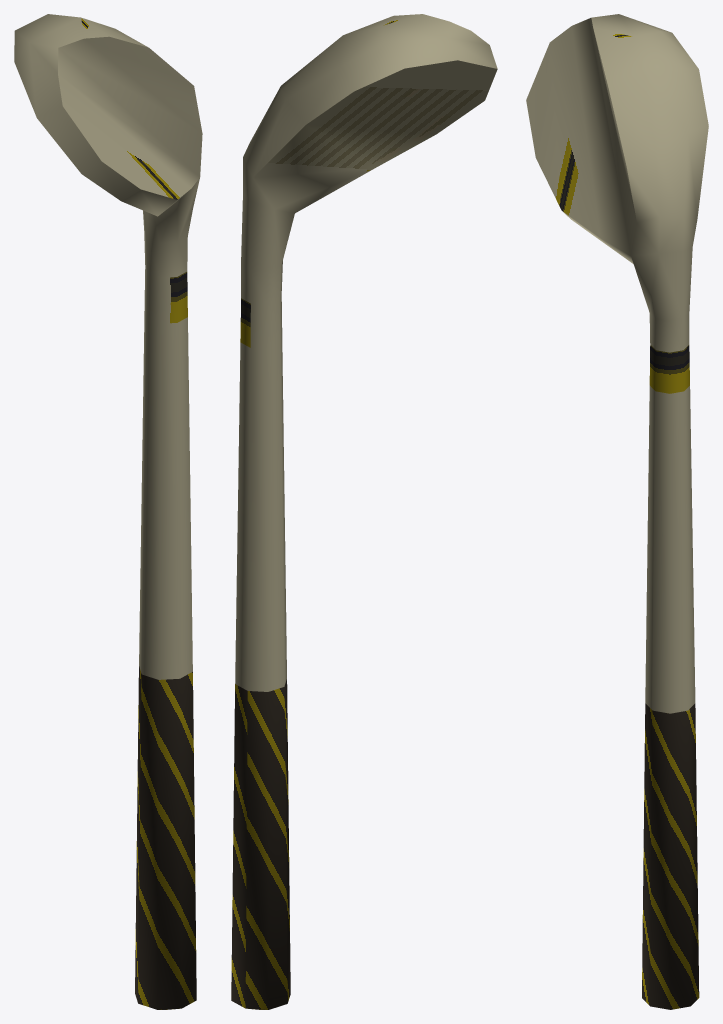
The model's file is club_lob.glb.
3 views of the same model, side by side, from view 1: azimuth 30°, elevation 25°; view 2: azimuth 150°, elevation 25°; view 3: azimuth 270°, elevation 25° (orthographic). The views are drawn at different scales.
Parts seen in each view (by area): view 1: polygon1.005, polygon0.005; view 2: polygon1.005, polygon0.005; view 3: polygon1.005, polygon0.005.
Boxes of the visible parts, bbox=[...] form: polygon1.005: bbox=[14, 14, 202, 679]; polygon0.005: bbox=[135, 666, 196, 1009]; polygon1.005: bbox=[235, 14, 497, 691]; polygon0.005: bbox=[231, 679, 290, 1009]; polygon1.005: bbox=[526, 14, 708, 713]; polygon0.005: bbox=[642, 703, 699, 1009].
Size of the model in its own units: 0.0164 by 0.0754 by 0.0135.
Materials: 2 (2 with a texture image).
